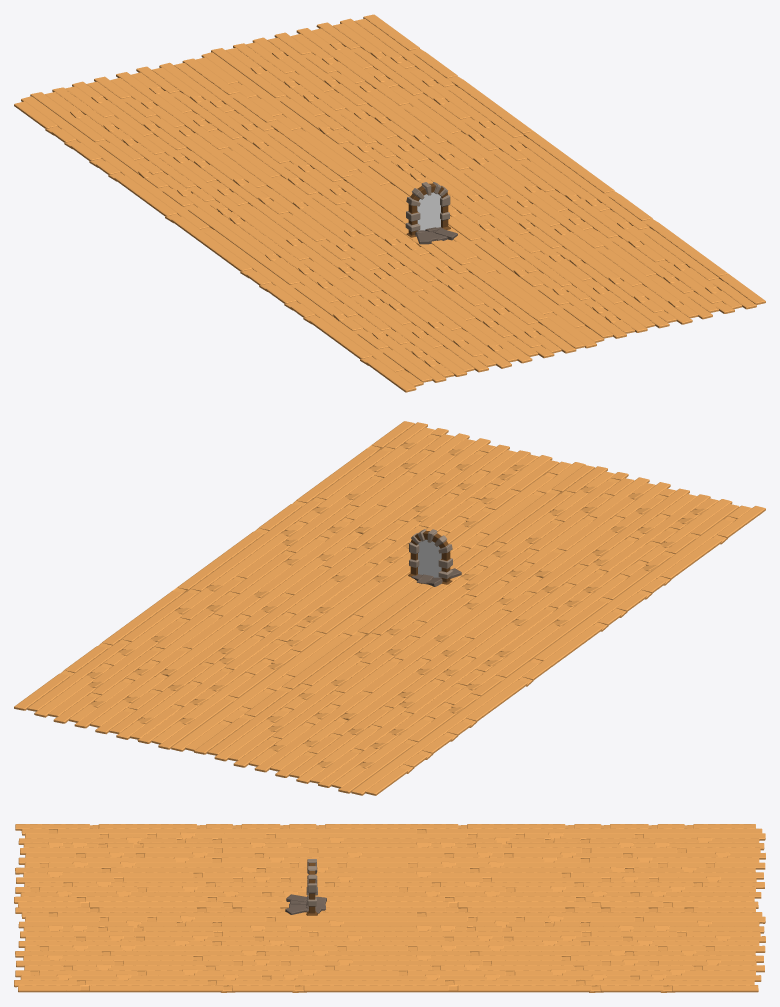
The model's file is Marge-and-Fight10.fbx.
3 views of the same model, one above another, from view 1: azimuth 30°, elevation 25°; view 2: azimuth 150°, elevation 25°; view 3: azimuth 270°, elevation 25° (orthographic). The views are drawn at different scales.
Visible parts, largest first — view 1: Ground.002, Cube.005, Plane; view 2: Ground.002, Cube.005, Plane; view 3: Ground.002, Cube.005.
Boxes of the visible parts, bbox=[...] form: Ground.002: bbox=[14, 14, 765, 392]; Cube.005: bbox=[405, 182, 457, 244]; Plane: bbox=[417, 192, 440, 230]; Ground.002: bbox=[14, 421, 765, 795]; Cube.005: bbox=[408, 529, 461, 586]; Plane: bbox=[418, 539, 441, 577]; Ground.002: bbox=[14, 824, 765, 992]; Cube.005: bbox=[285, 859, 326, 915].
Size of the model in its own units: 2702 by 395 by 5132.
Materials: 2 (1 with a texture image).
